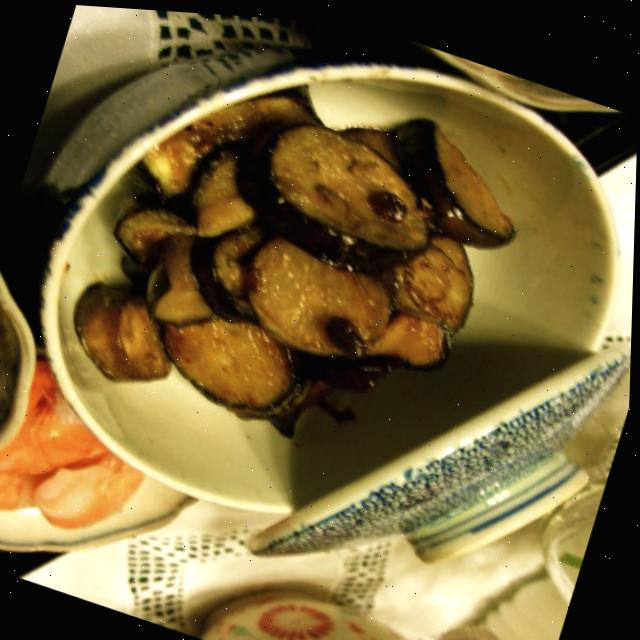鸡蛋料理: (4, 1, 614, 574)
